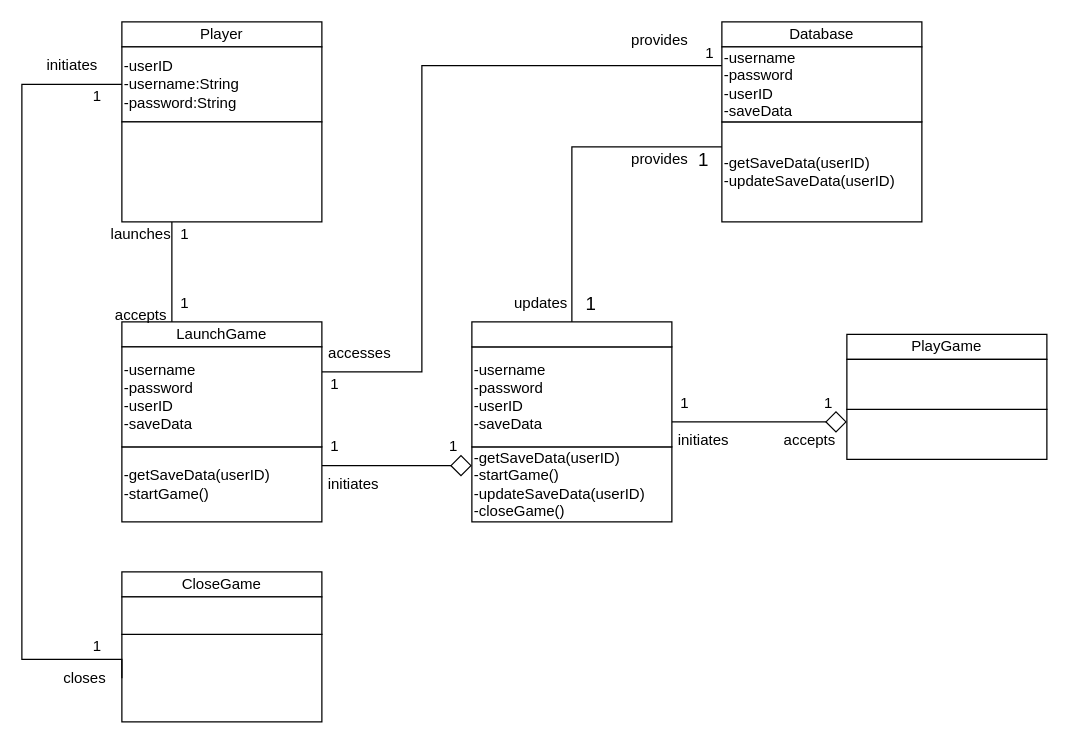
Some shapes in this 1069 by 744 pixel diagram are drawn without their labels. Each missing label, with the centre of its shape:
"-closeGame() -updateSaveData(userID) -confirmClose() -logout()" goes at (x=221, y=677).
"-input -display" goes at (x=946, y=383).
"-login(username, password) -logout() -closeGame()" goes at (x=221, y=171).
"-move(input) -update(display)" goes at (x=946, y=433).
"GameControl" goes at (x=571, y=334).
"userID" goes at (x=221, y=615).
